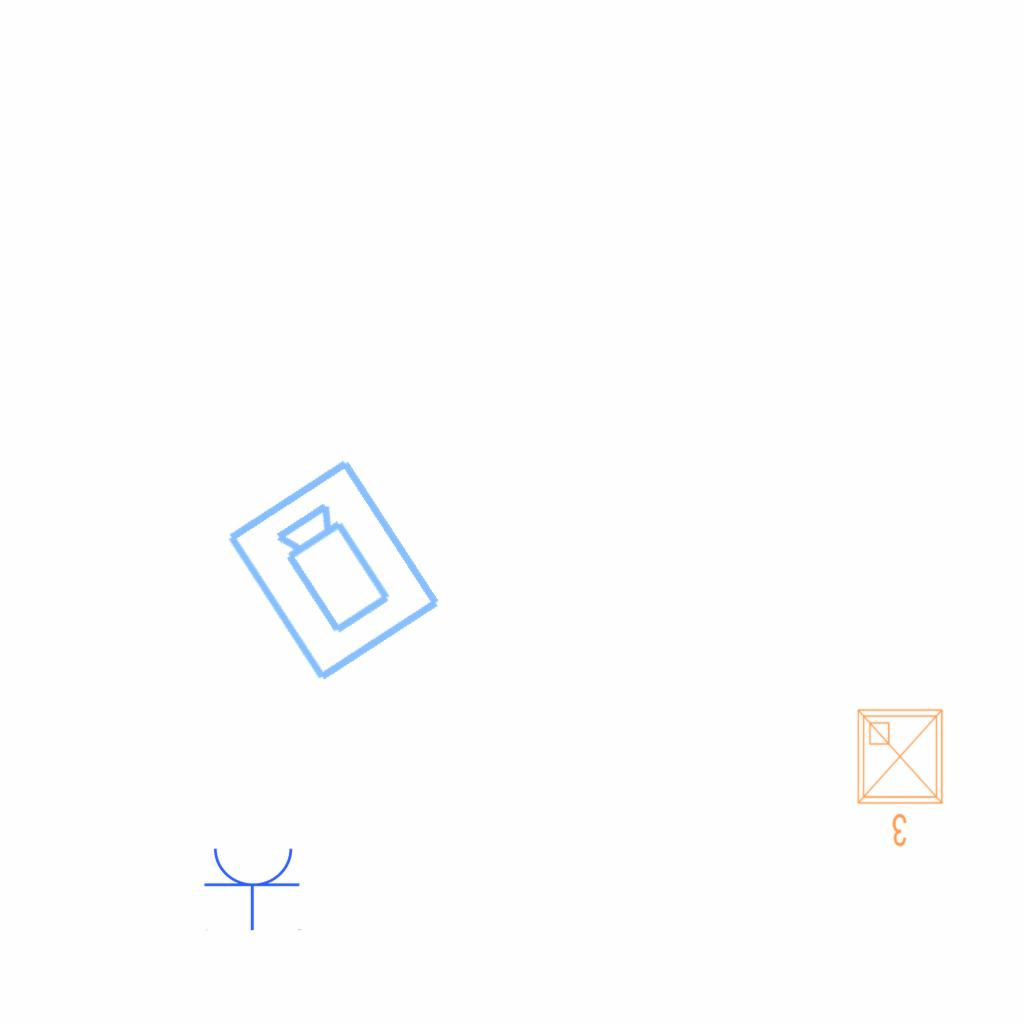Einbaudownlights_LED_Konferenzraeume: (850, 702, 954, 852)
KFO_Kamera_mit_Festobjektiv: (220, 451, 450, 689)
Schukosteckdose_einfach: (203, 844, 303, 931)
